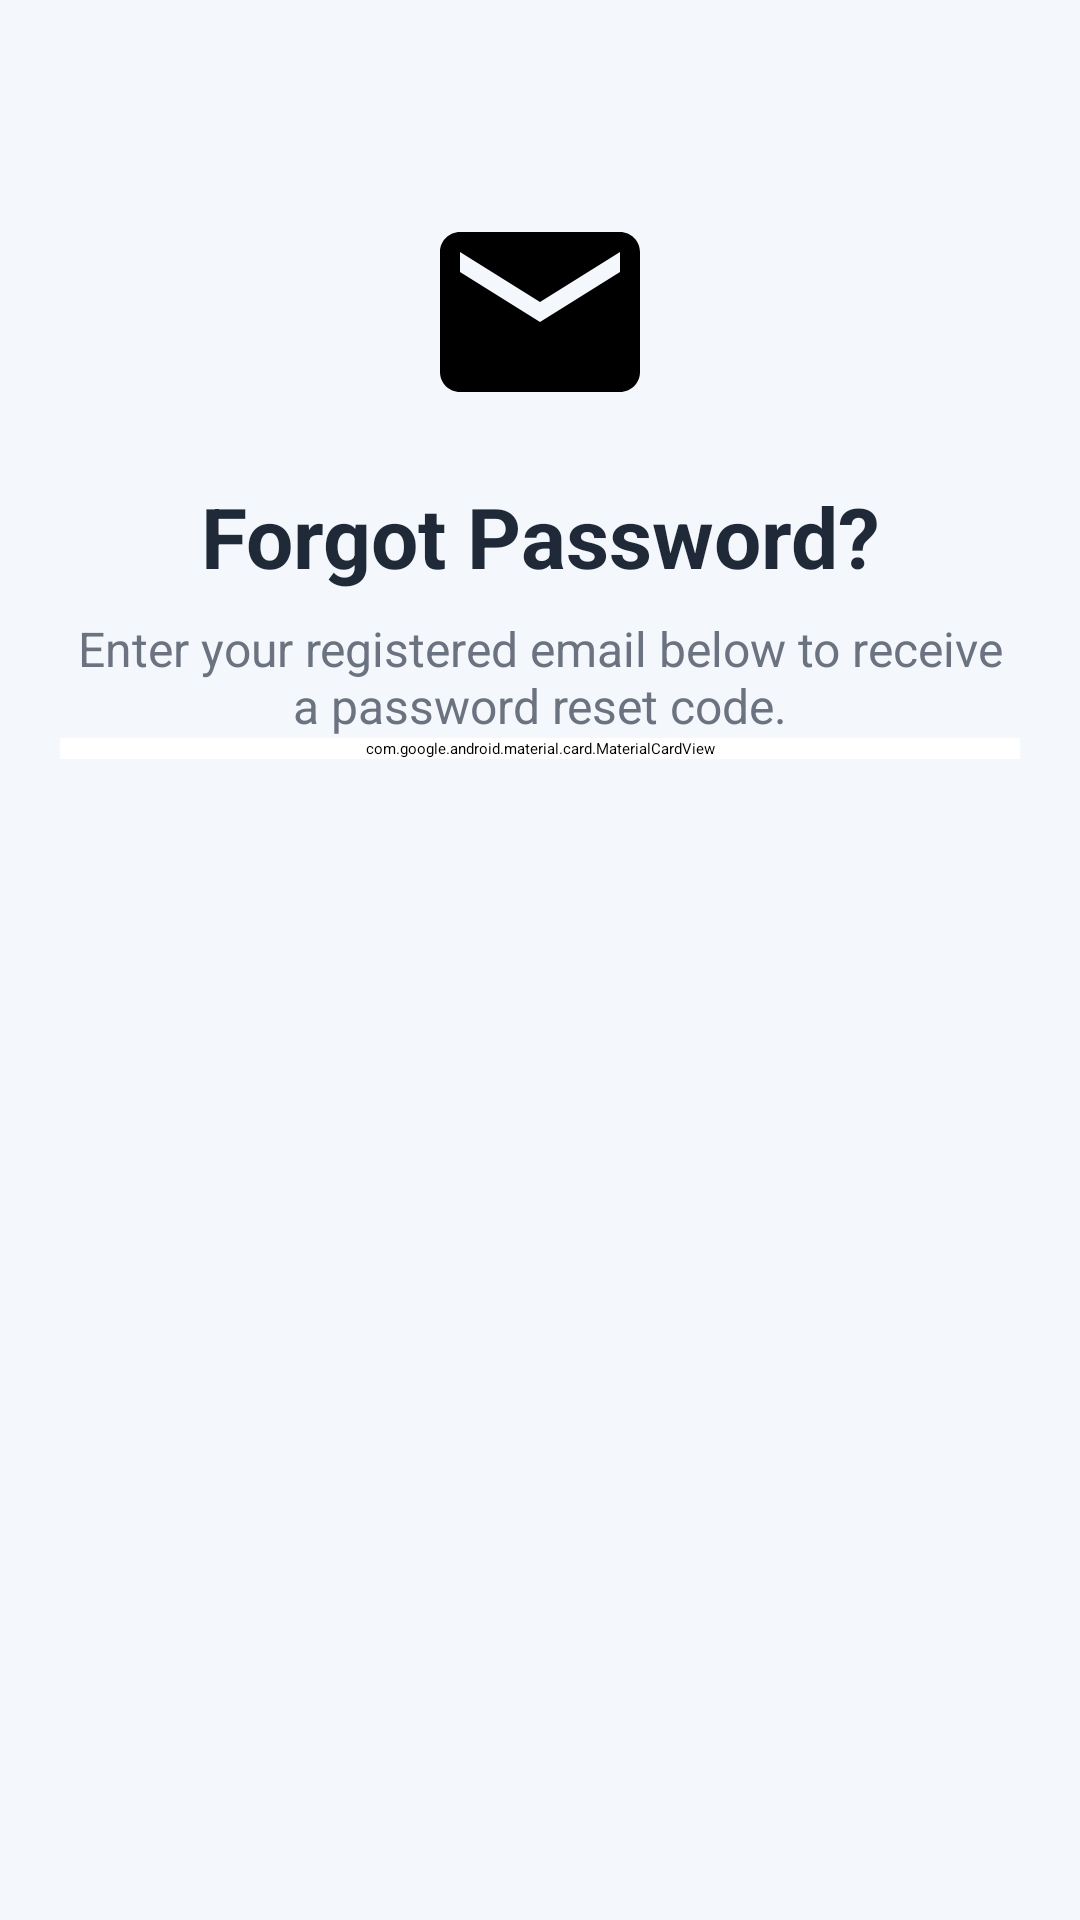

Icon bounding boxes for this 1080px×1920px phone screenshot, format (x1, y1, x2, y2):
email: (440, 232, 640, 392)
